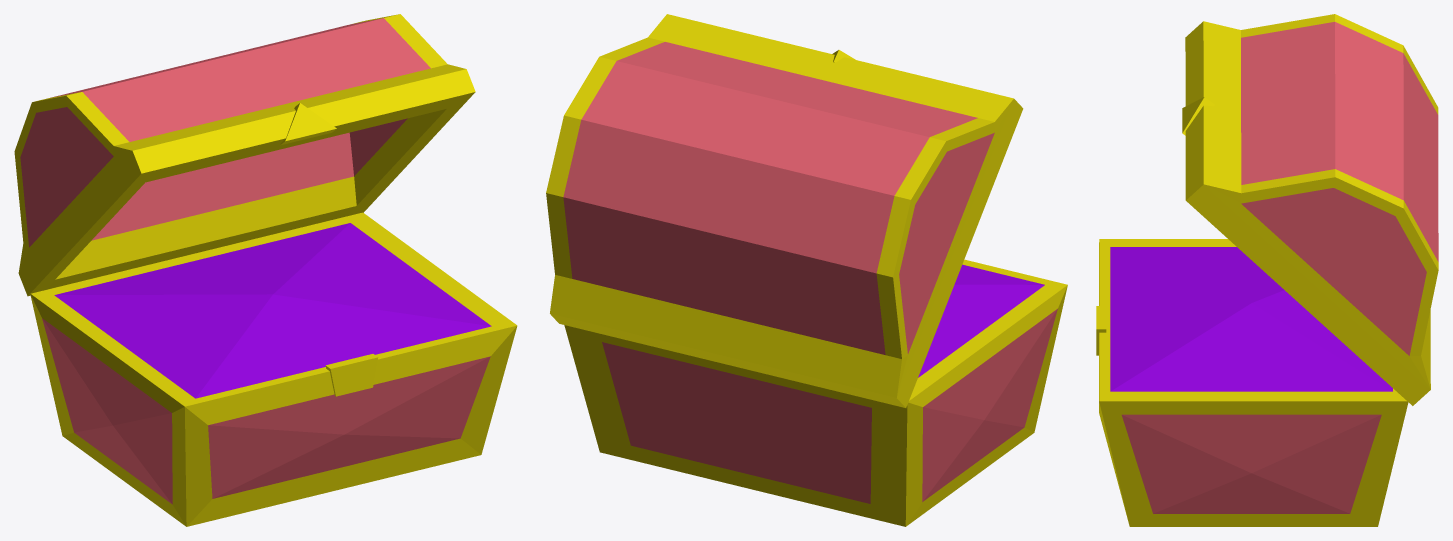
The model's file is box-chest.fbx.
3 renders of one model, left to right at view 1: azimuth 30°, elevation 25°; view 2: azimuth 150°, elevation 25°; view 3: azimuth 270°, elevation 25°, orthographic. The views are drawn at different scales.
Visible parts, largest first — view 1: box-chest-base, box-chest-top; view 2: box-chest-top, box-chest-base; view 3: box-chest-base, box-chest-top.
Part boxes in pixels (left/top/right/bottom): box-chest-base: left=30, top=212, right=517, bottom=526; box-chest-top: left=14, top=14, right=475, bottom=296; box-chest-top: left=546, top=14, right=1023, bottom=407; box-chest-base: left=564, top=259, right=1067, bottom=526; box-chest-base: left=1096, top=239, right=1408, bottom=526; box-chest-top: left=1182, top=14, right=1438, bottom=405.
Size of the model in its own units: 0.9701 by 1.01 by 0.856.
